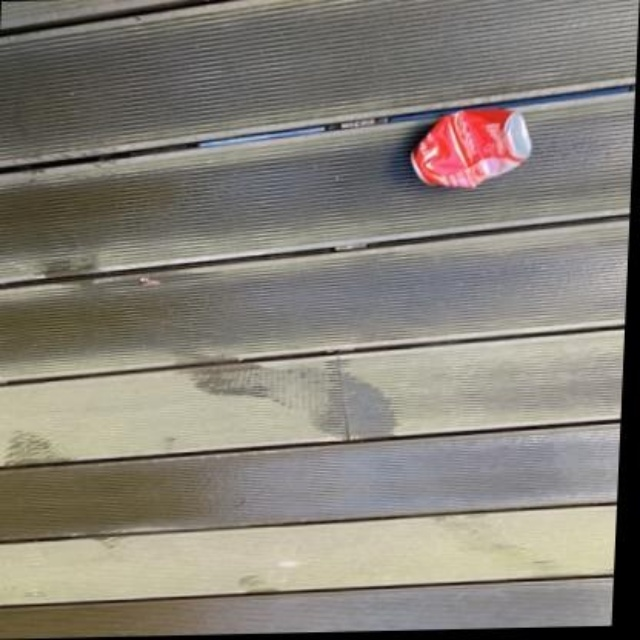trash: (411, 109, 531, 186)
